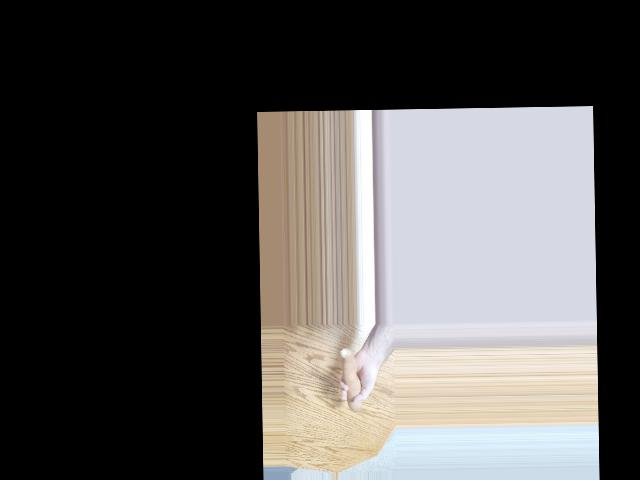sweet_potato: (342, 346, 365, 417)
